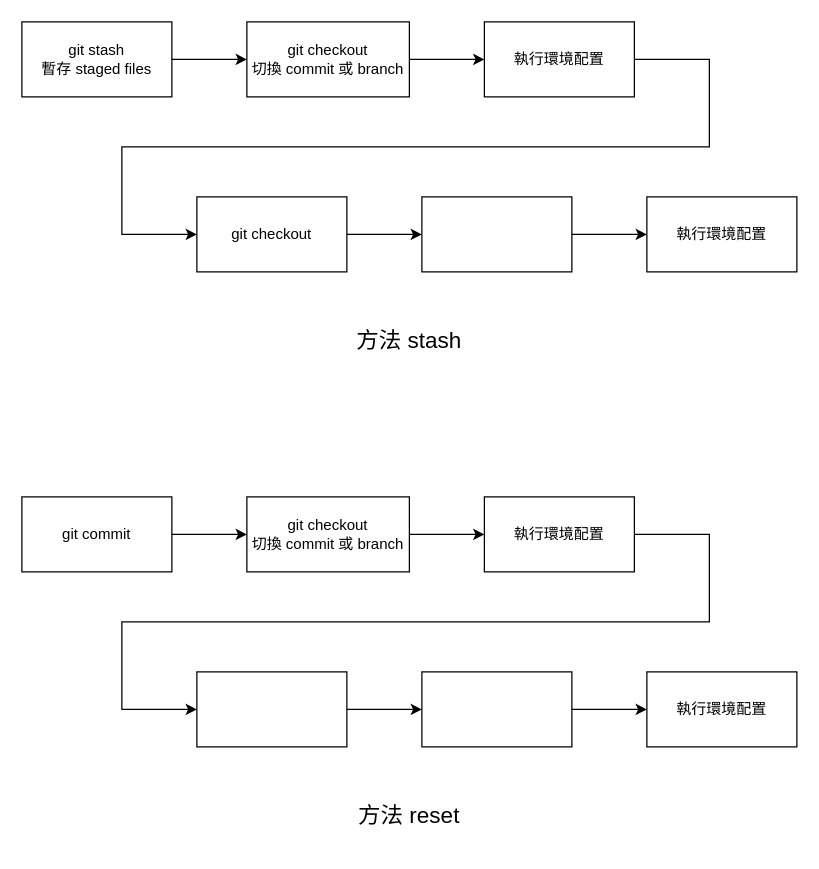
Some shapes in this 819 by 869 pixel diagram are drawn without their labels. Here are the shapes that lost their labels. From the top down, the box of each, then its label:
(421, 196, 572, 272): git stash pop 提出上次暫存檔案
(196, 671, 347, 747): git checkout 切換到剛剛的 commit
(421, 671, 572, 747): git reset HEAD^ 刪除一個 commit
